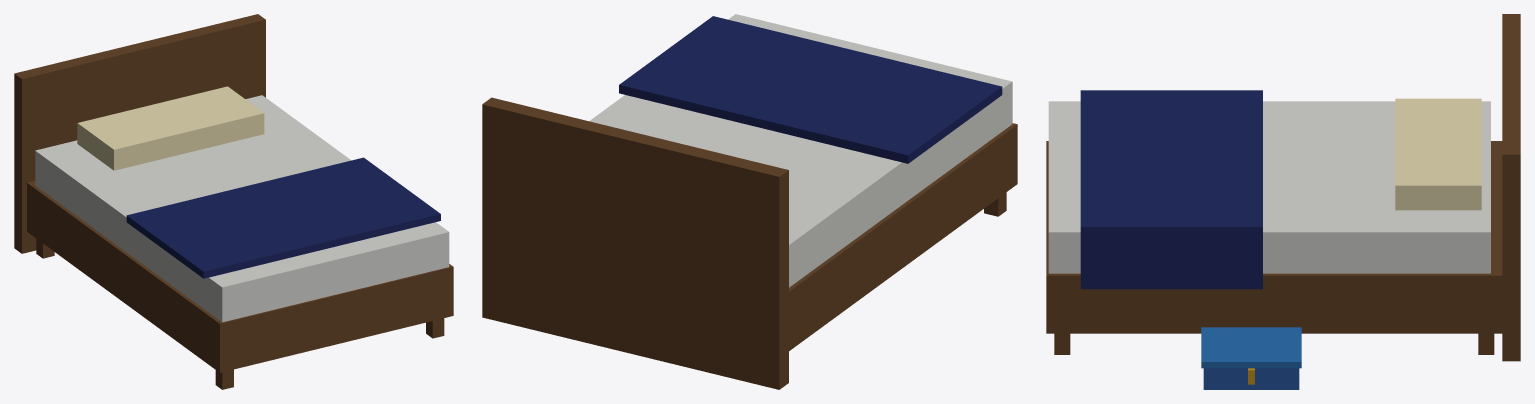
File: prop_bed.glb
3 views of the same model, side by side, from view 1: azimuth 30°, elevation 25°; view 2: azimuth 150°, elevation 25°; view 3: azimuth 270°, elevation 25° (orthographic). The views are drawn at different scales.
Visible parts, largest first — view 1: body; view 2: body; view 3: body.
Boxes of the visible parts, <box> form: body: <box>14,14,453,389</box>; body: <box>482,14,1017,389</box>; body: <box>1046,14,1520,389</box>.
Size of the model in its own units: 1.81 by 1 by 2.08.
